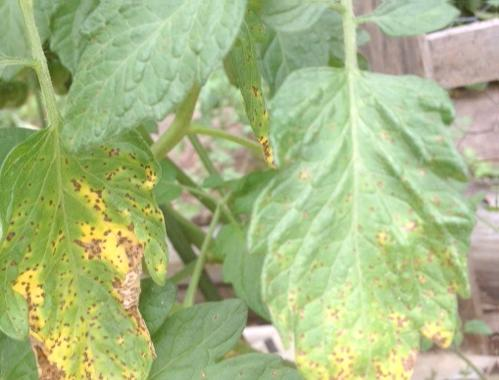Tomato Septoria leaf spot: (237, 66, 480, 380), (0, 118, 170, 380)
